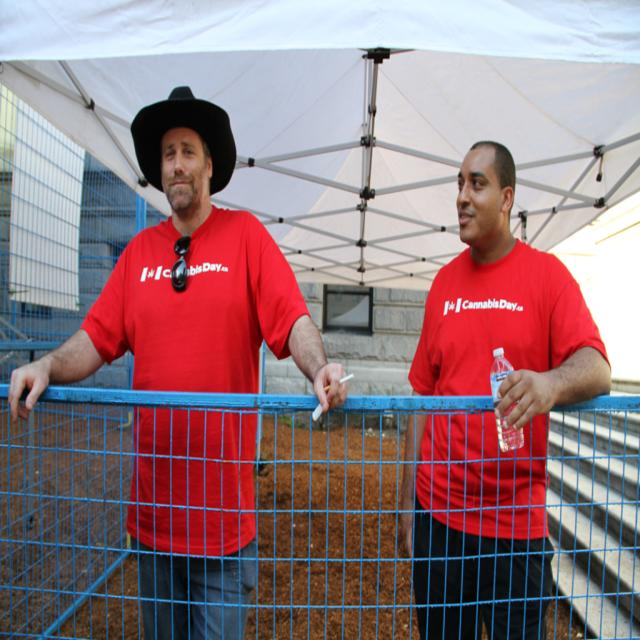Hat: (128, 85, 237, 194)
